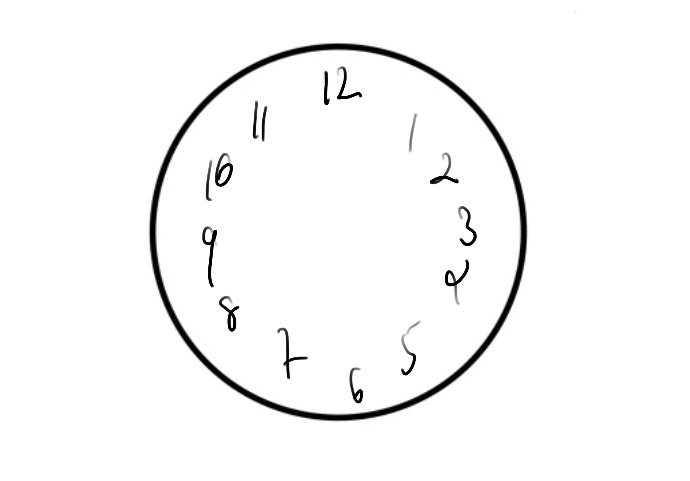eight: (216, 288, 243, 335)
eleven: (251, 96, 271, 142)
five: (393, 317, 421, 384)
four: (437, 252, 475, 310)
nine: (195, 219, 221, 295)
one: (399, 106, 419, 162)
seven: (271, 319, 311, 382)
six: (347, 359, 365, 404)
ten: (200, 152, 238, 205)
three: (451, 199, 478, 251)
twelve: (315, 64, 366, 113)
two: (427, 141, 463, 187)
